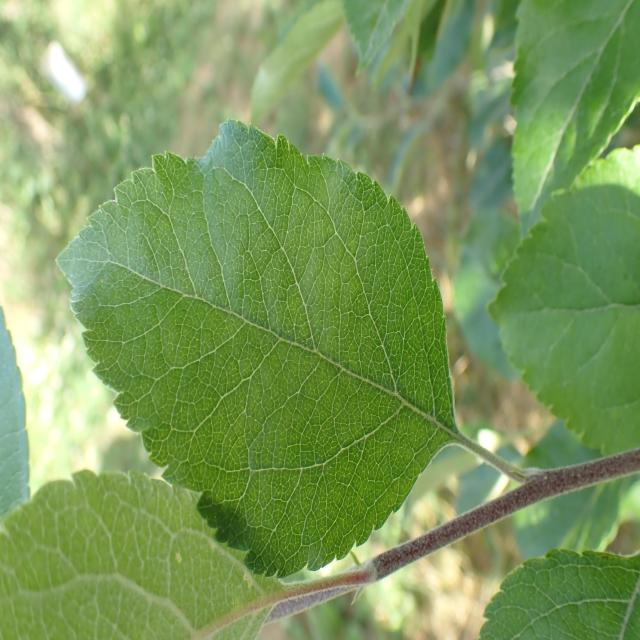healthy: (57, 117, 457, 580), (1, 468, 291, 640), (487, 147, 640, 457), (507, 0, 640, 235), (478, 547, 640, 640), (0, 305, 30, 521)
